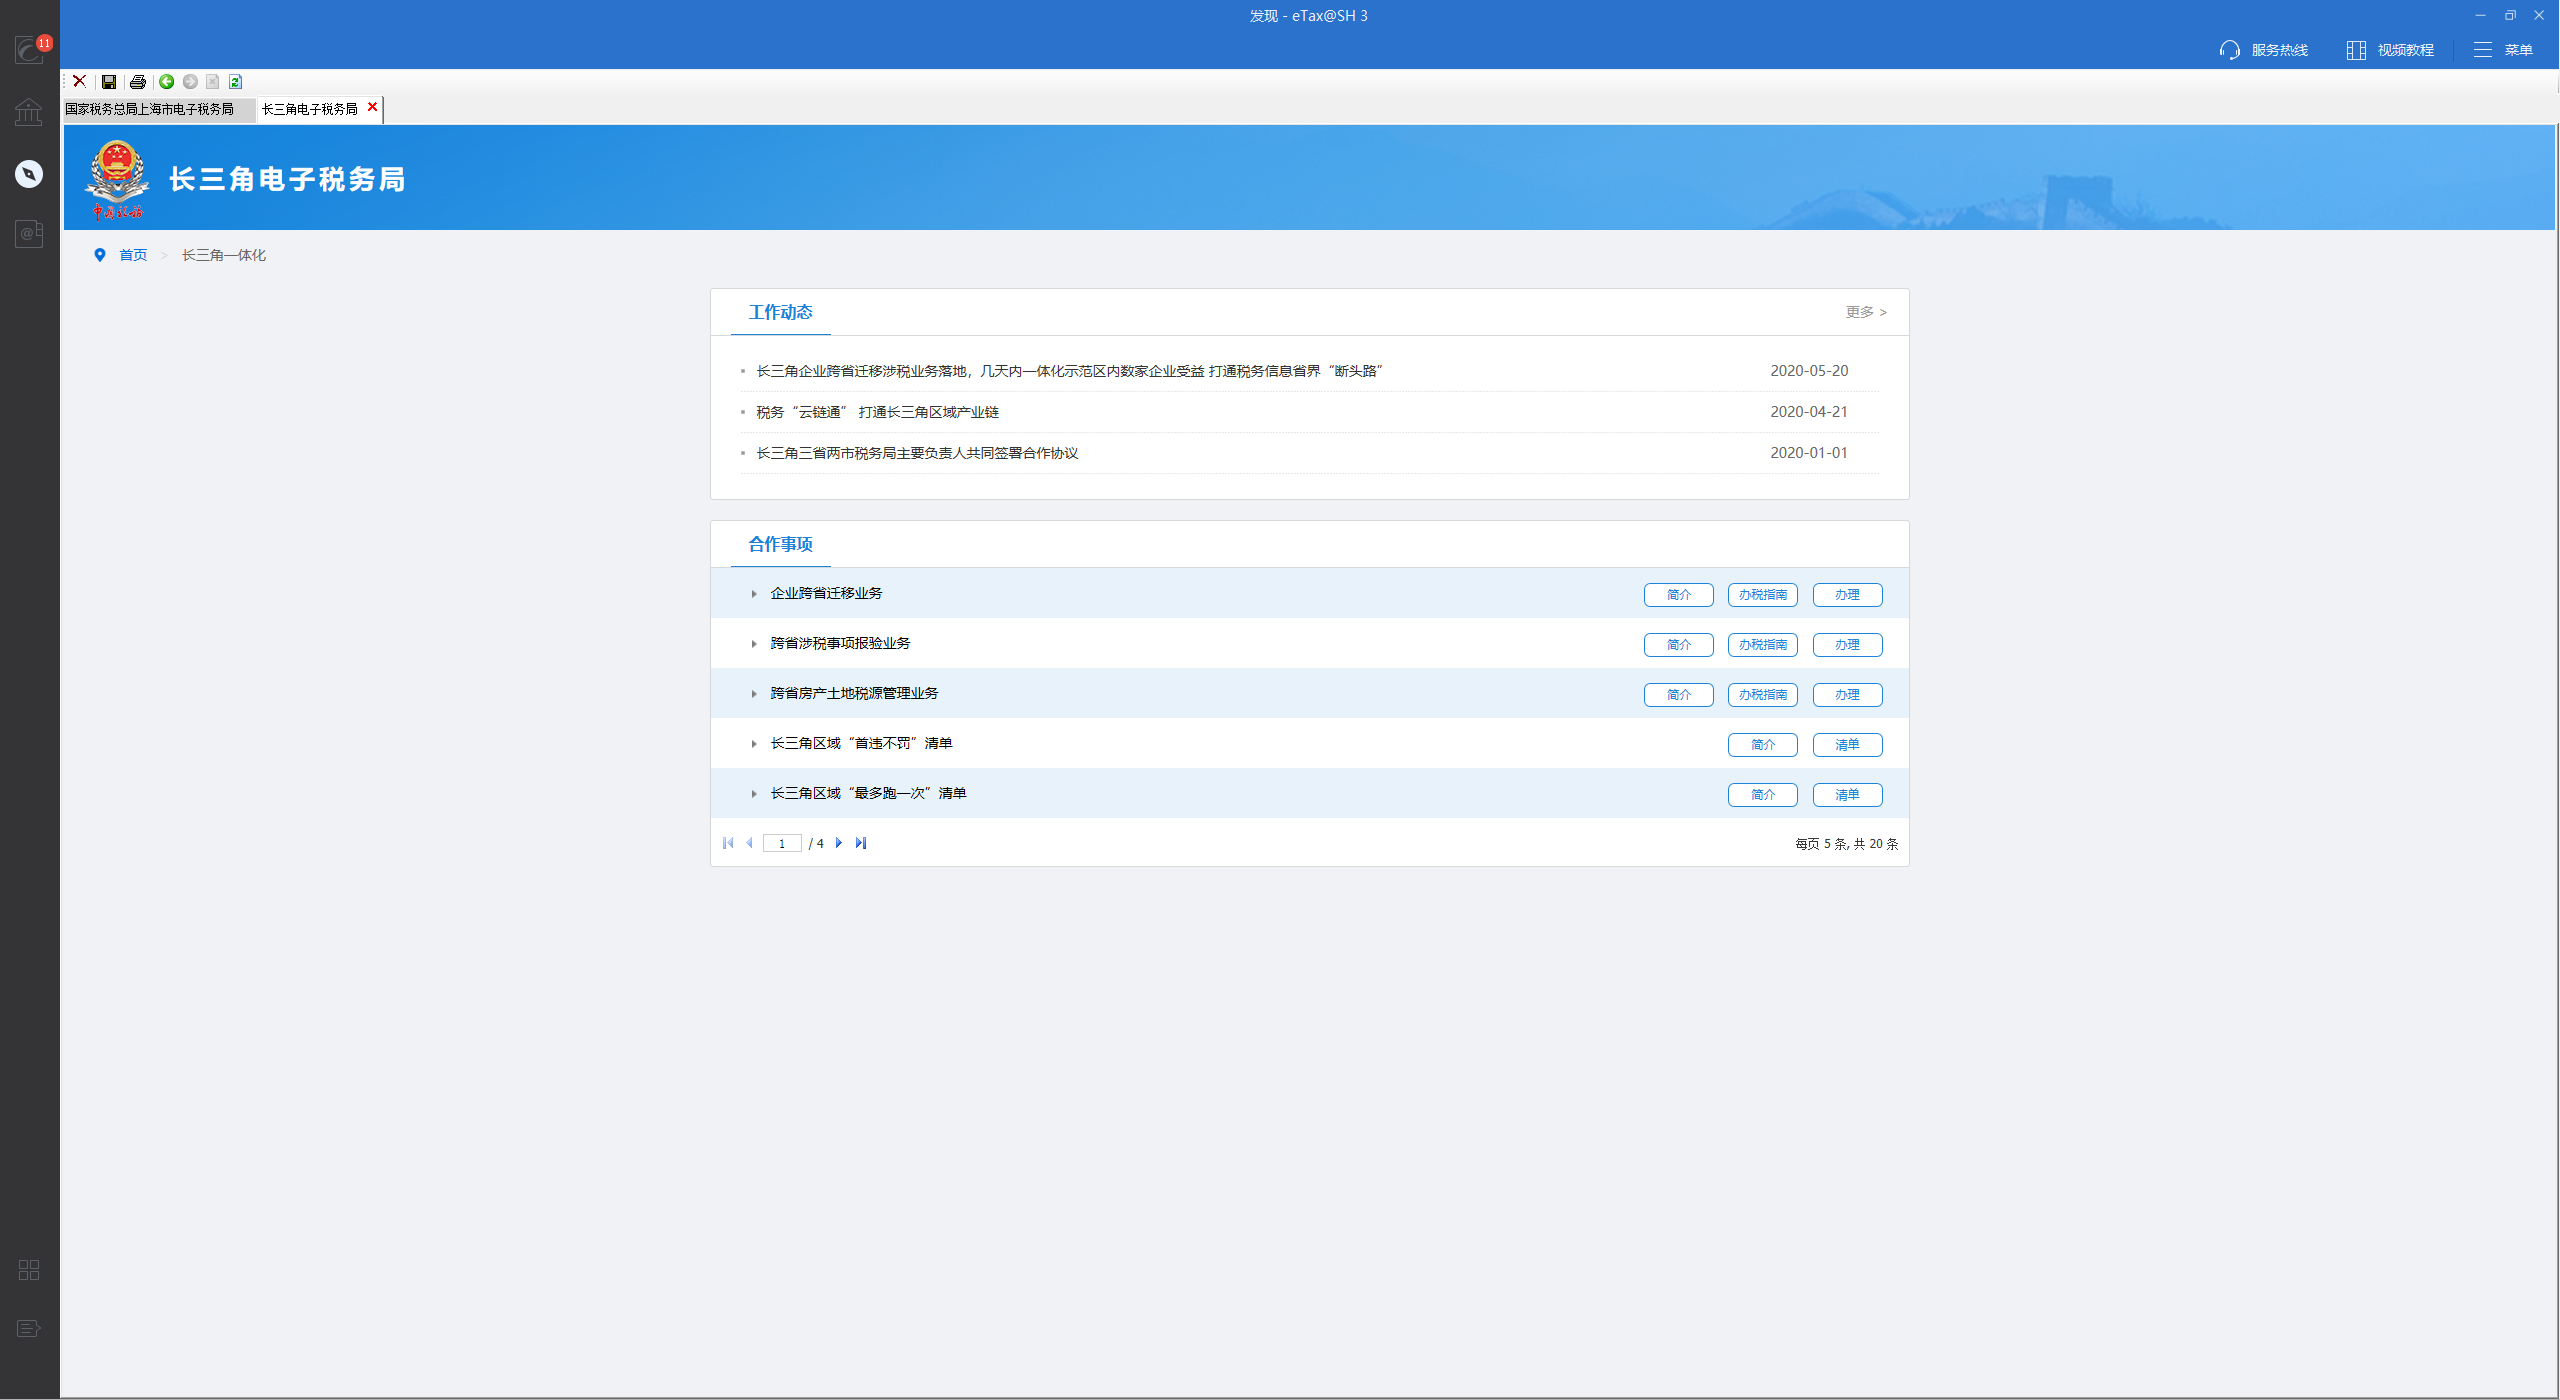character: (759, 360, 1391, 379), (171, 159, 409, 200), (759, 441, 1086, 467), (753, 405, 1007, 422), (772, 731, 958, 753), (772, 683, 940, 702), (772, 786, 964, 802), (1241, 5, 1381, 24), (733, 298, 827, 324), (1776, 834, 1901, 853), (67, 102, 234, 116), (772, 636, 914, 652), (771, 584, 884, 603), (1765, 402, 1857, 421), (179, 247, 276, 264), (1765, 360, 1851, 379), (1769, 445, 1851, 462), (2253, 36, 2313, 59), (752, 536, 821, 555), (259, 103, 359, 116), (1734, 583, 1791, 603), (2377, 41, 2441, 59), (91, 203, 148, 222), (1738, 634, 1789, 652), (1746, 731, 1781, 755), (1743, 686, 1793, 700), (1829, 734, 1865, 753), (1664, 586, 1698, 603), (1827, 786, 1864, 802), (1665, 636, 1696, 652), (1834, 636, 1865, 652), (1833, 590, 1872, 602), (121, 247, 148, 264), (1827, 690, 1865, 702), (2501, 45, 2536, 57), (1665, 690, 1698, 702), (1750, 790, 1779, 802), (1848, 305, 1872, 317), (809, 836, 826, 852), (774, 840, 788, 852)
icon: (84, 136, 148, 203), (14, 34, 48, 64), (14, 159, 45, 190), (14, 219, 45, 248), (14, 97, 41, 126), (16, 1319, 41, 1336), (17, 1259, 38, 1279), (2219, 40, 2241, 59), (2346, 40, 2365, 60), (2472, 40, 2493, 59), (226, 72, 245, 90), (181, 72, 198, 90), (159, 72, 176, 90), (129, 72, 147, 90), (203, 72, 221, 90), (100, 72, 117, 90), (153, 247, 167, 267), (71, 72, 86, 88), (2531, 7, 2546, 22), (93, 247, 107, 262), (2503, 7, 2519, 21), (2474, 7, 2488, 22), (365, 98, 379, 112), (746, 686, 760, 700), (746, 636, 760, 650), (721, 836, 734, 850), (746, 738, 760, 750), (746, 786, 760, 798), (853, 836, 865, 850), (833, 834, 843, 848), (1877, 305, 1888, 317), (748, 588, 760, 598), (745, 834, 753, 848)
